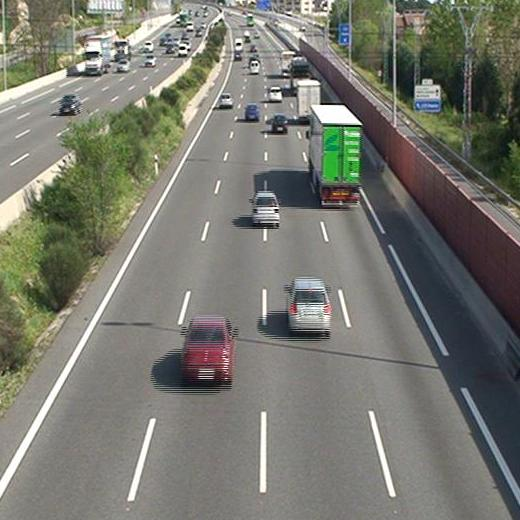car: (181, 316, 235, 382), (288, 278, 333, 331), (252, 192, 281, 222), (272, 114, 288, 132), (245, 103, 260, 120), (268, 87, 282, 102), (220, 92, 232, 108)
small-truck: (297, 81, 319, 121), (280, 50, 296, 76)
truck: (308, 105, 361, 206)
van: (249, 61, 260, 74)
